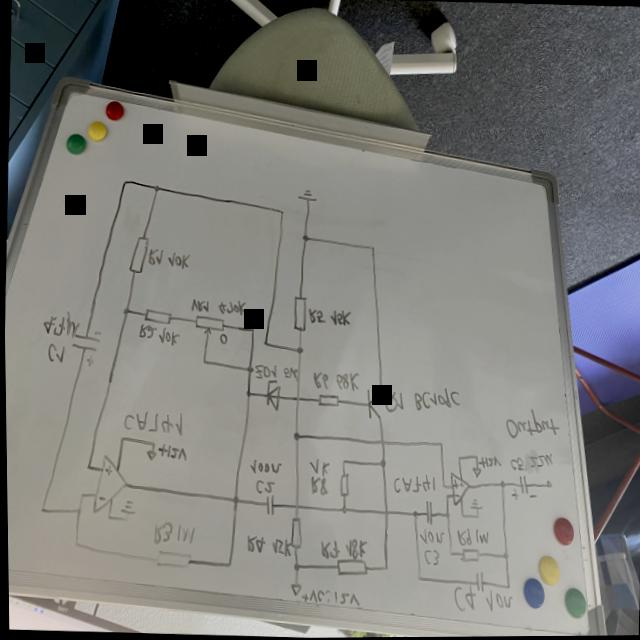capacitor: (69, 328, 100, 368), (507, 475, 536, 504), (422, 499, 432, 528), (262, 494, 274, 517), (472, 572, 483, 594)
crossover: (291, 503, 298, 511), (381, 509, 387, 517), (293, 395, 299, 403), (378, 439, 384, 446)
diode: (261, 378, 283, 413)
ground: (294, 188, 317, 204), (118, 499, 134, 516), (467, 499, 480, 511)
junction: (338, 505, 347, 515), (230, 495, 238, 506), (300, 234, 308, 244), (121, 306, 129, 316), (377, 459, 385, 469), (290, 563, 298, 573), (120, 178, 128, 188), (294, 346, 302, 356), (243, 365, 251, 375), (291, 432, 299, 442), (223, 560, 230, 570), (153, 184, 160, 194), (260, 340, 268, 348), (410, 510, 416, 520), (442, 512, 449, 520), (501, 552, 507, 561), (244, 390, 250, 399), (498, 481, 504, 489), (83, 463, 89, 471), (117, 435, 123, 443), (37, 506, 43, 514), (248, 327, 254, 335), (368, 245, 374, 253), (278, 209, 284, 217), (73, 507, 79, 515), (436, 441, 442, 449), (76, 492, 82, 500), (71, 540, 77, 548), (503, 584, 509, 592), (200, 359, 206, 366), (381, 565, 387, 572), (339, 459, 345, 466), (414, 576, 420, 583), (148, 440, 154, 447), (454, 456, 459, 462), (105, 515, 110, 521), (447, 550, 451, 557), (122, 517, 127, 522), (472, 455, 476, 461), (443, 494, 447, 500), (440, 484, 444, 490), (474, 516, 478, 520), (458, 515, 462, 519)
resistor: (148, 548, 192, 571), (126, 234, 148, 275), (331, 556, 370, 579), (192, 313, 225, 337), (289, 292, 307, 335), (141, 306, 172, 327), (285, 516, 302, 551), (457, 547, 479, 564), (315, 394, 339, 409), (337, 472, 348, 498)
source: (286, 582, 301, 598), (469, 467, 480, 479), (144, 449, 154, 461)
terminal: (544, 481, 551, 489)
text: (502, 408, 558, 442), (120, 410, 183, 437), (411, 386, 460, 414), (40, 310, 79, 339), (391, 472, 436, 496), (482, 589, 511, 614), (451, 584, 475, 613), (154, 442, 187, 462), (297, 589, 331, 607), (247, 459, 281, 477), (332, 370, 358, 393), (150, 520, 171, 547), (215, 299, 246, 317), (342, 538, 366, 561), (251, 363, 280, 382), (268, 537, 290, 560), (156, 326, 180, 347), (44, 341, 65, 364), (382, 391, 403, 414), (416, 529, 444, 546), (317, 540, 339, 561), (418, 547, 439, 569), (174, 523, 195, 545), (166, 251, 190, 270), (306, 459, 330, 478), (243, 534, 264, 555), (327, 309, 350, 327), (527, 453, 552, 469), (308, 476, 327, 497), (331, 592, 356, 607), (188, 297, 210, 314), (306, 308, 325, 326), (454, 528, 471, 548), (136, 323, 156, 340), (311, 371, 328, 391), (476, 456, 500, 470), (146, 248, 163, 267), (252, 480, 272, 495), (507, 456, 524, 473), (280, 366, 297, 382), (473, 529, 488, 546), (102, 464, 111, 476), (218, 335, 226, 346), (451, 480, 457, 490), (96, 495, 104, 501), (453, 494, 459, 498), (458, 483, 462, 489)
transistor: (364, 388, 383, 422)
